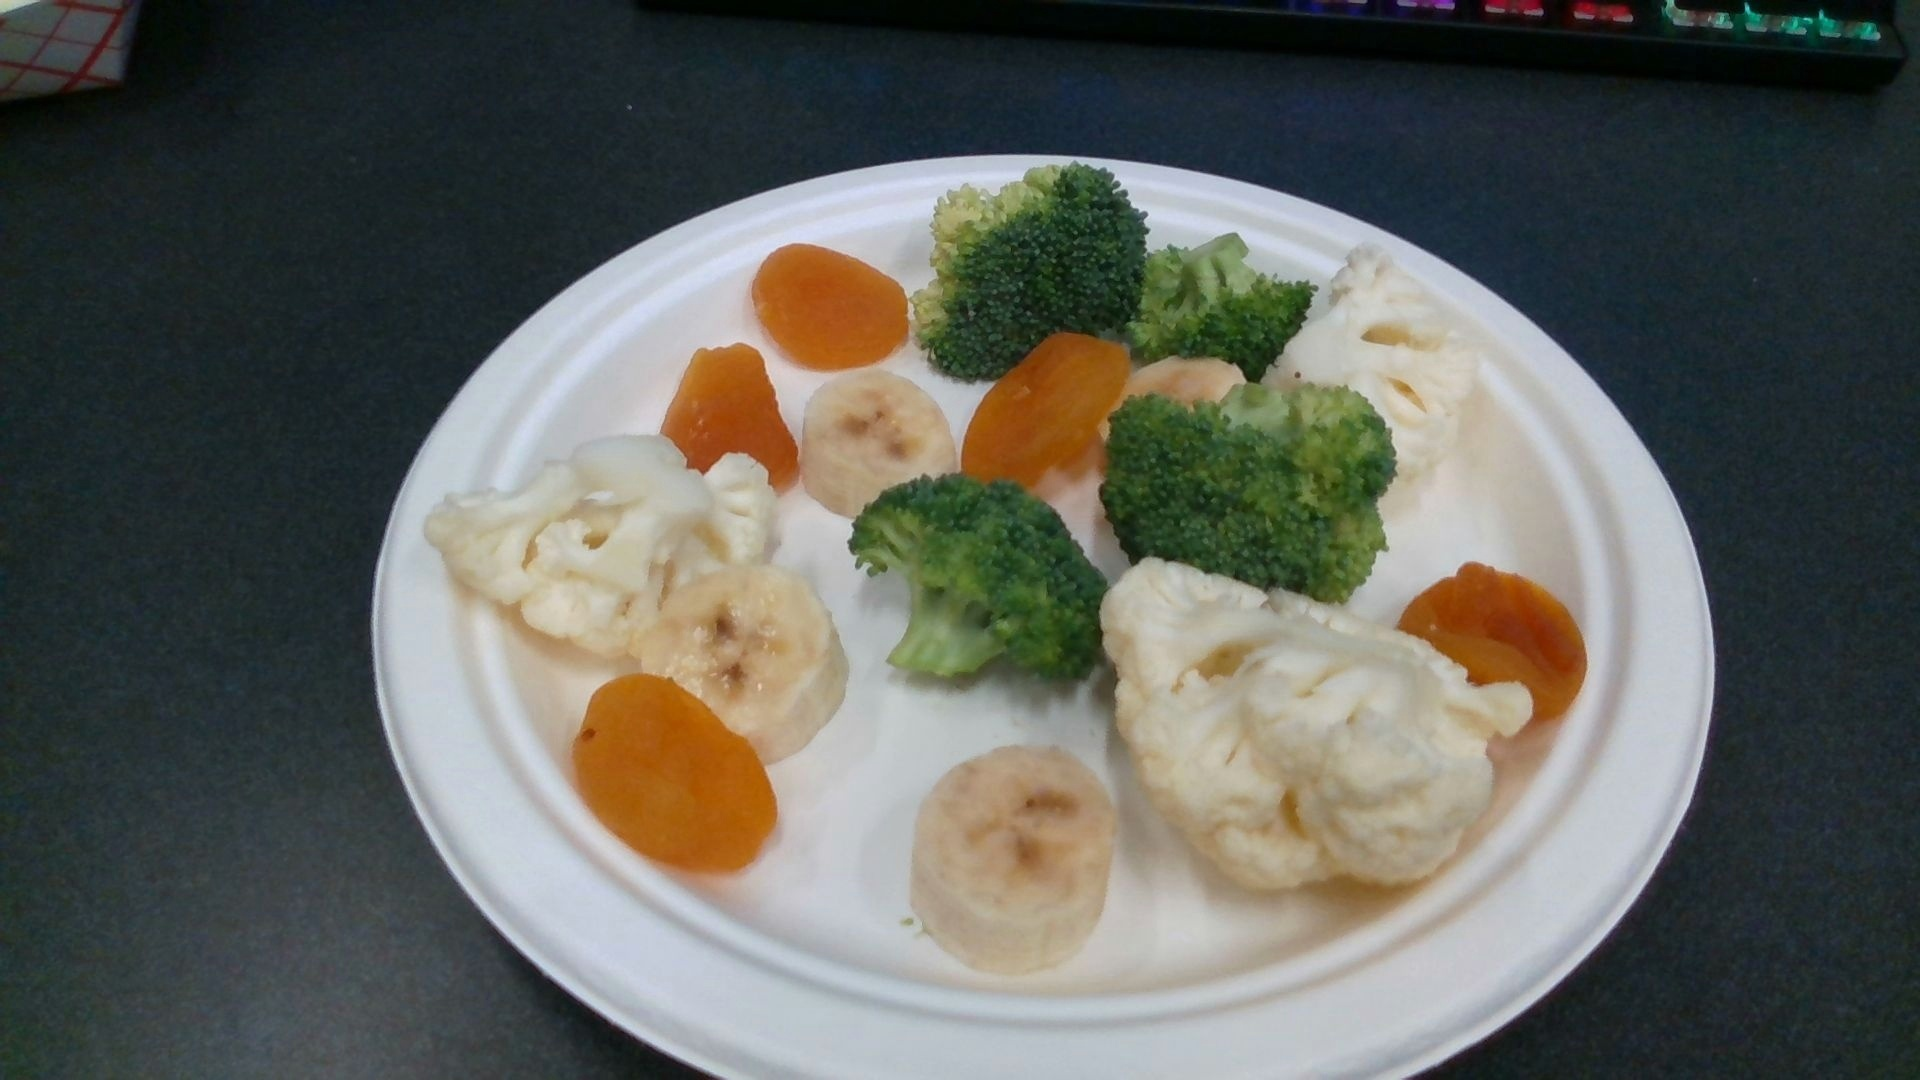apricot: (579, 675, 777, 873), (1399, 560, 1589, 727), (963, 335, 1131, 491), (754, 241, 913, 368), (667, 345, 800, 491)
banana: (915, 745, 1116, 965), (640, 563, 847, 756), (800, 373, 952, 516)
broccoli: (1105, 381, 1395, 607), (852, 476, 1105, 684), (910, 165, 1147, 376), (1130, 233, 1313, 375)
cauliflower: (1098, 556, 1534, 887), (429, 440, 785, 658), (1276, 245, 1476, 475)
